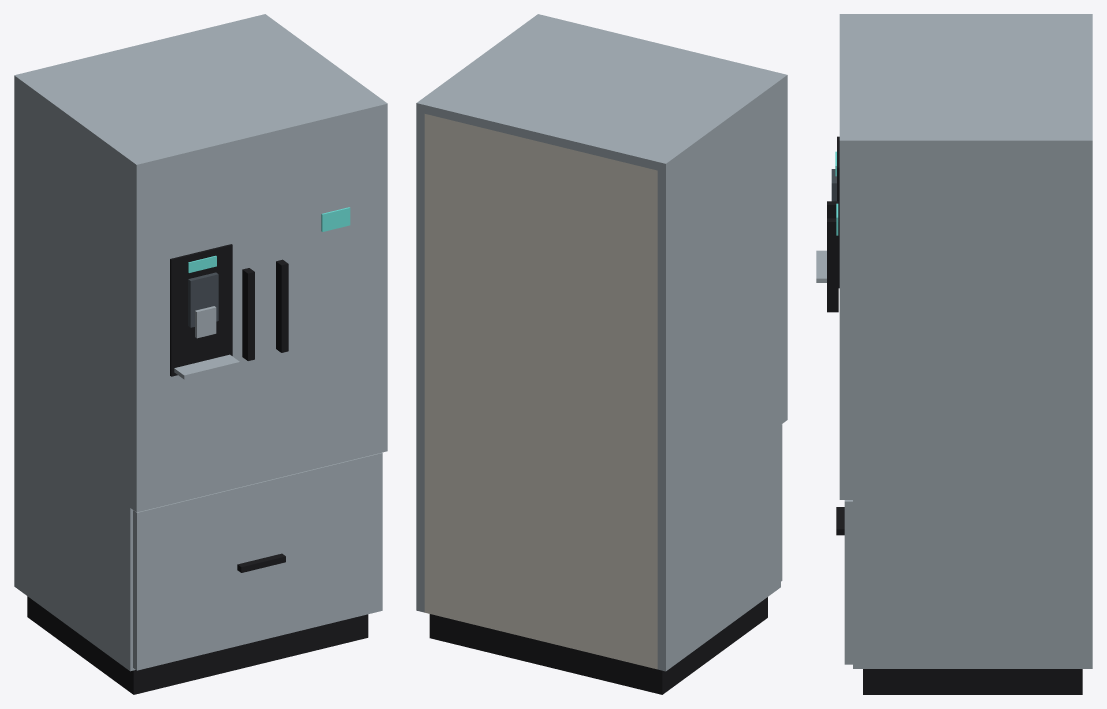
The model's file is GI_Fridge_Dispenser_01.glb.
The picture shows the model from 3 angles, left to right: view 1: azimuth 30°, elevation 25°; view 2: azimuth 150°, elevation 25°; view 3: azimuth 270°, elevation 25°; orthographic projection. The views are drawn at different scales.
Visible parts, largest first — view 1: GI_Fridge_Dispenser_01, DoorL, DoorR, DrawerFreezer; view 2: GI_Fridge_Dispenser_01, DoorL, DoorR; view 3: GI_Fridge_Dispenser_01, DoorR, DoorL, DrawerFreezer.
Boxes of the visible parts, <box> form: GI_Fridge_Dispenser_01: <box>14,14,380,694</box>; DoorL: <box>130,129,262,512</box>; DoorR: <box>256,99,387,481</box>; DrawerFreezer: <box>133,452,382,670</box>; GI_Fridge_Dispenser_01: <box>416,18,780,694</box>; DoorL: <box>657,44,787,424</box>; DoorR: <box>532,14,662,48</box>; GI_Fridge_Dispenser_01: <box>853,14,1092,694</box>; DoorR: <box>827,77,852,499</box>; DoorL: <box>816,14,852,288</box>; DrawerFreezer: <box>836,500,852,664</box>.
Size of the model in its own units: 0.9 by 1.85 by 0.83.
Materials: 2 (2 with a texture image).
